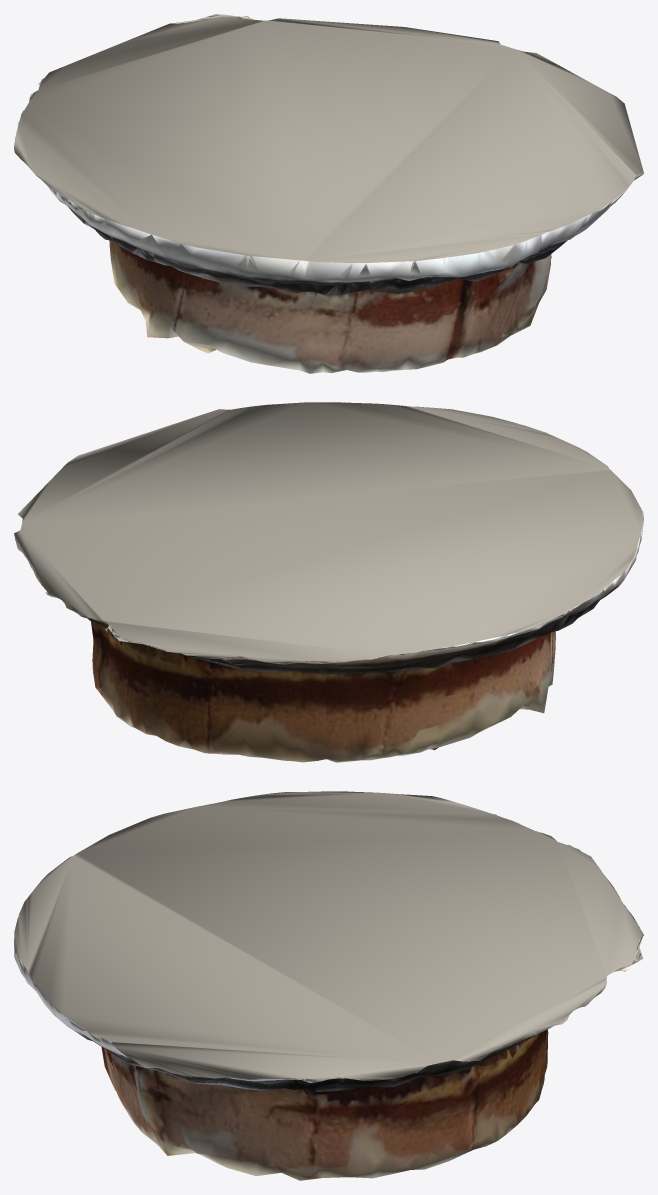
The model's file is cake_3228.obj.
3 renders of one model, top to bottom at view 1: azimuth 30°, elevation 25°; view 2: azimuth 150°, elevation 25°; view 3: azimuth 270°, elevation 25°, orthographic. The views are drawn at different scales.
Bounding box in the file's own units: 0.1761 × 0.0558 × 0.1767.
1 material, 1 textured.
